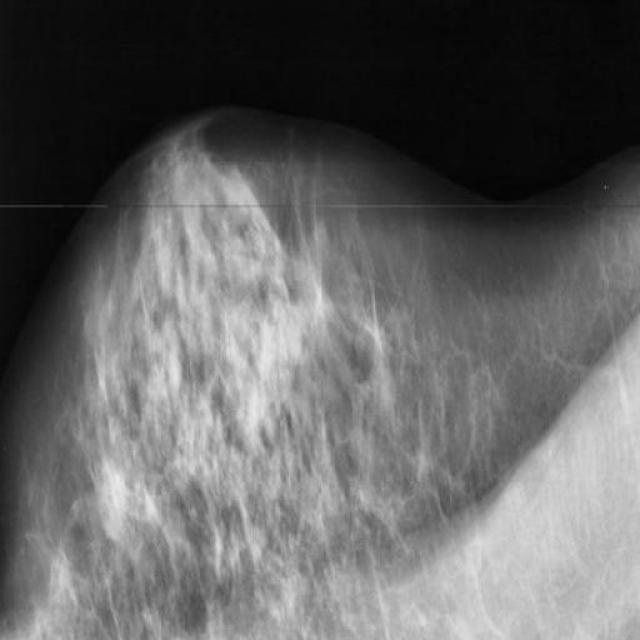cancer: (82, 435, 150, 555)
